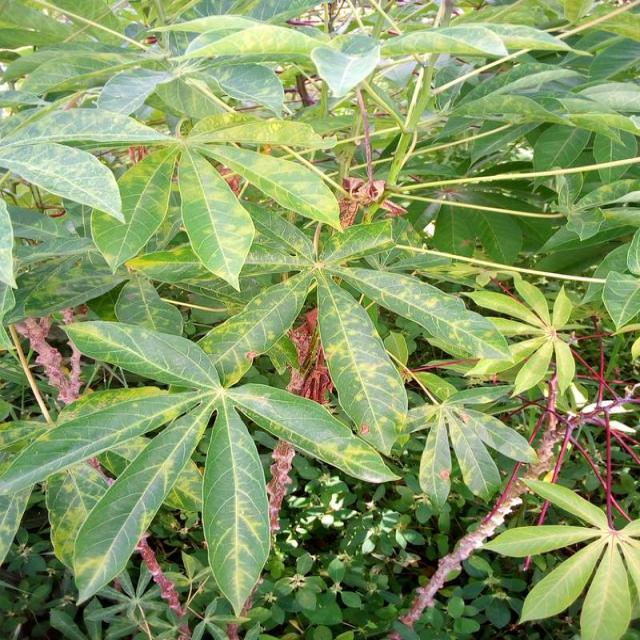cassava leaf: (0, 1, 638, 634), (315, 270, 408, 456), (201, 397, 271, 618), (176, 143, 255, 292)
